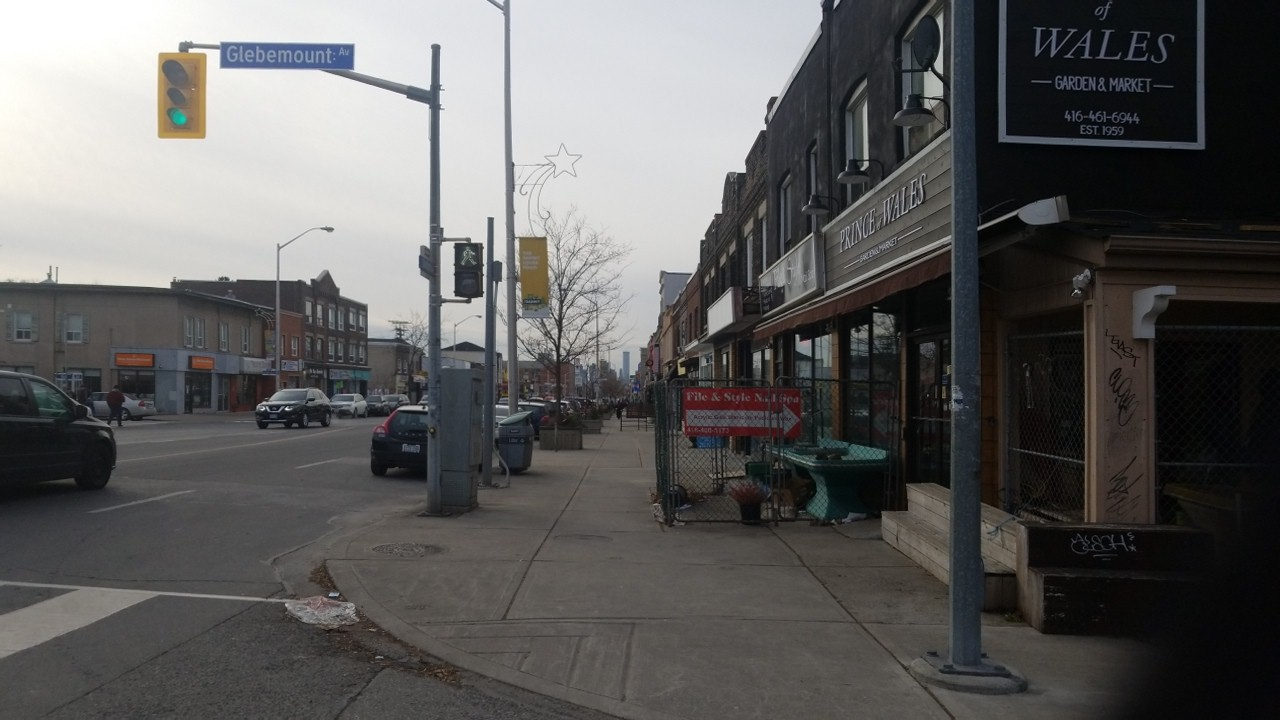light: (447, 236, 491, 304)
